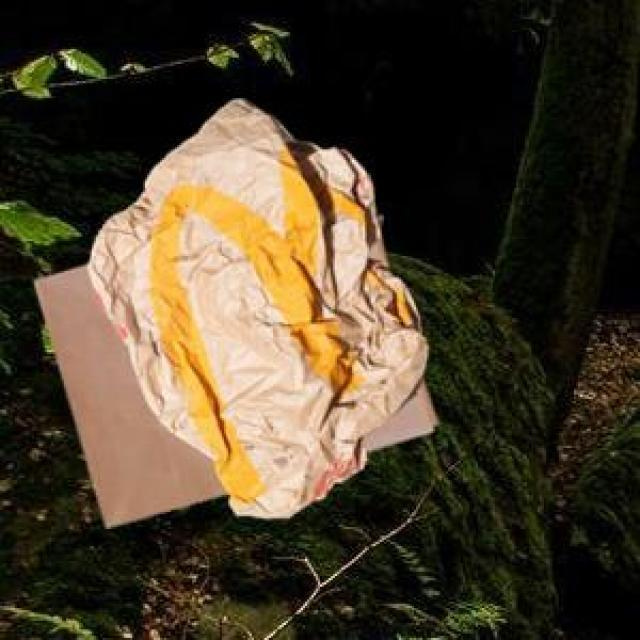paper: (83, 96, 422, 514), (30, 235, 433, 523)
